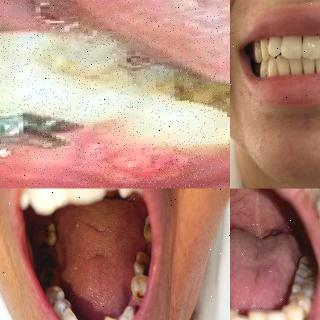cavities: (146, 60, 230, 119), (130, 251, 152, 275), (132, 285, 150, 302), (142, 216, 156, 234)
maligned: (282, 32, 302, 62), (266, 31, 281, 58), (276, 53, 292, 75), (230, 307, 247, 320), (97, 314, 115, 320)
